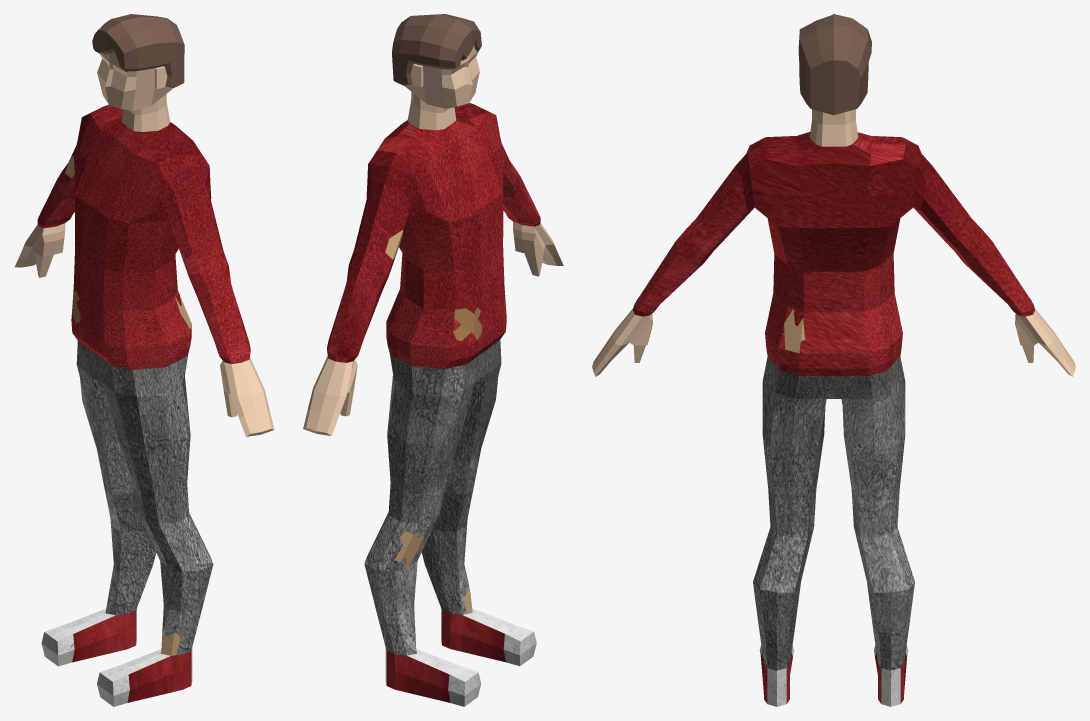
Rendered from MCtextured.fbx.
The picture shows the model from 3 angles, left to right: view 1: azimuth 30°, elevation 25°; view 2: azimuth 150°, elevation 25°; view 3: azimuth 270°, elevation 25°; orthographic projection. The views are drawn at different scales.
Parts seen in each view (by area): view 1: Main Character; view 2: Main Character; view 3: Main Character.
Part boxes in pixels (bbox=[...]): Main Character: bbox=[15, 14, 274, 706]; Main Character: bbox=[303, 14, 563, 706]; Main Character: bbox=[592, 14, 1075, 706].
Bounding box in the file's own units: 92.66 × 546 × 357.
Materials: 7 (3 with a texture image).
